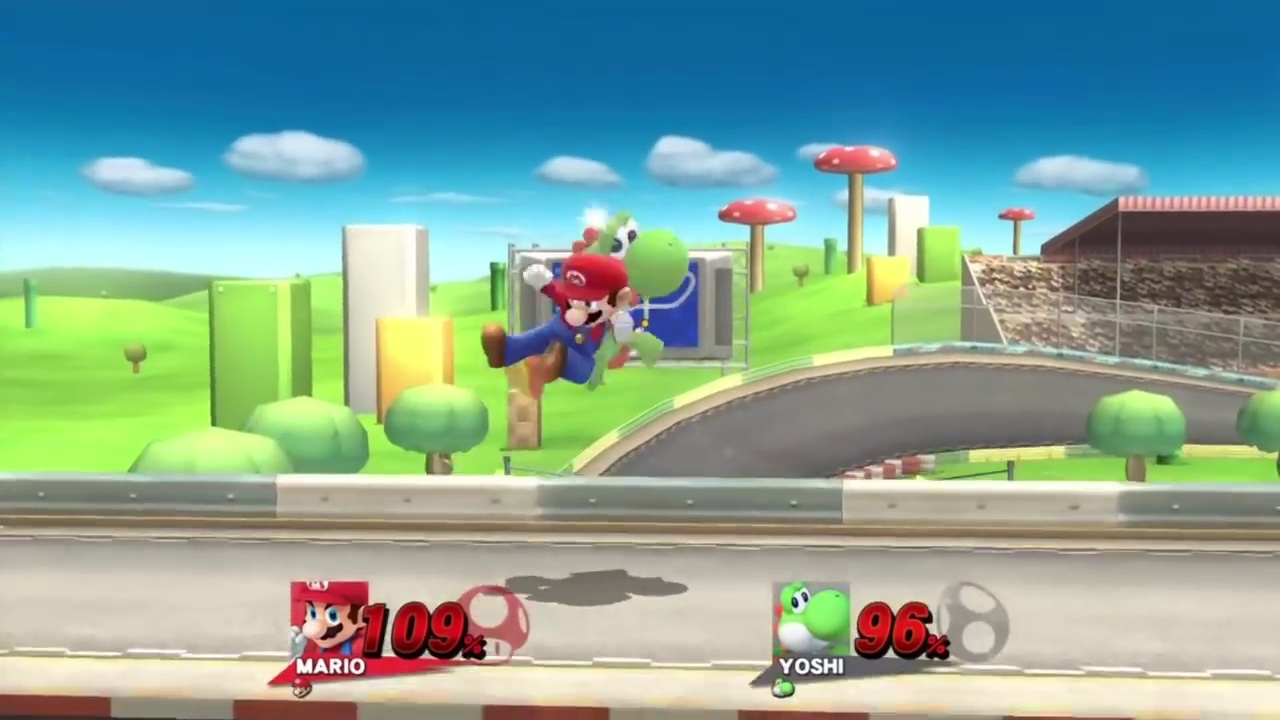Mario: (485, 255, 631, 388)
